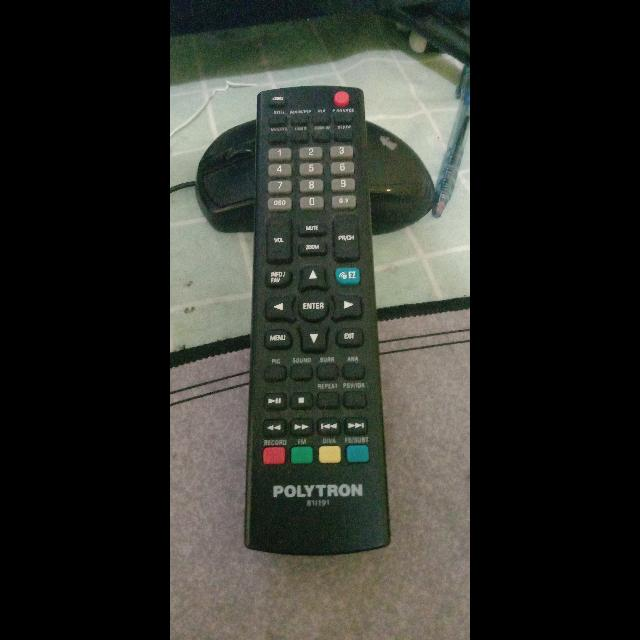TV-Remote-Control: (241, 80, 377, 552)
